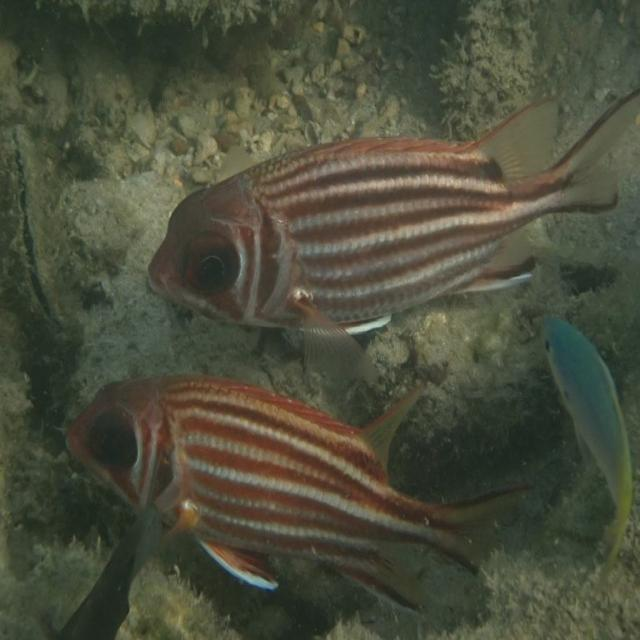Asker Baligi: (137, 43, 640, 354), (60, 343, 546, 632)
